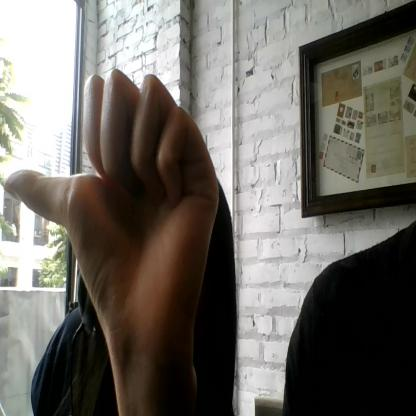right: (3, 70, 220, 362)
